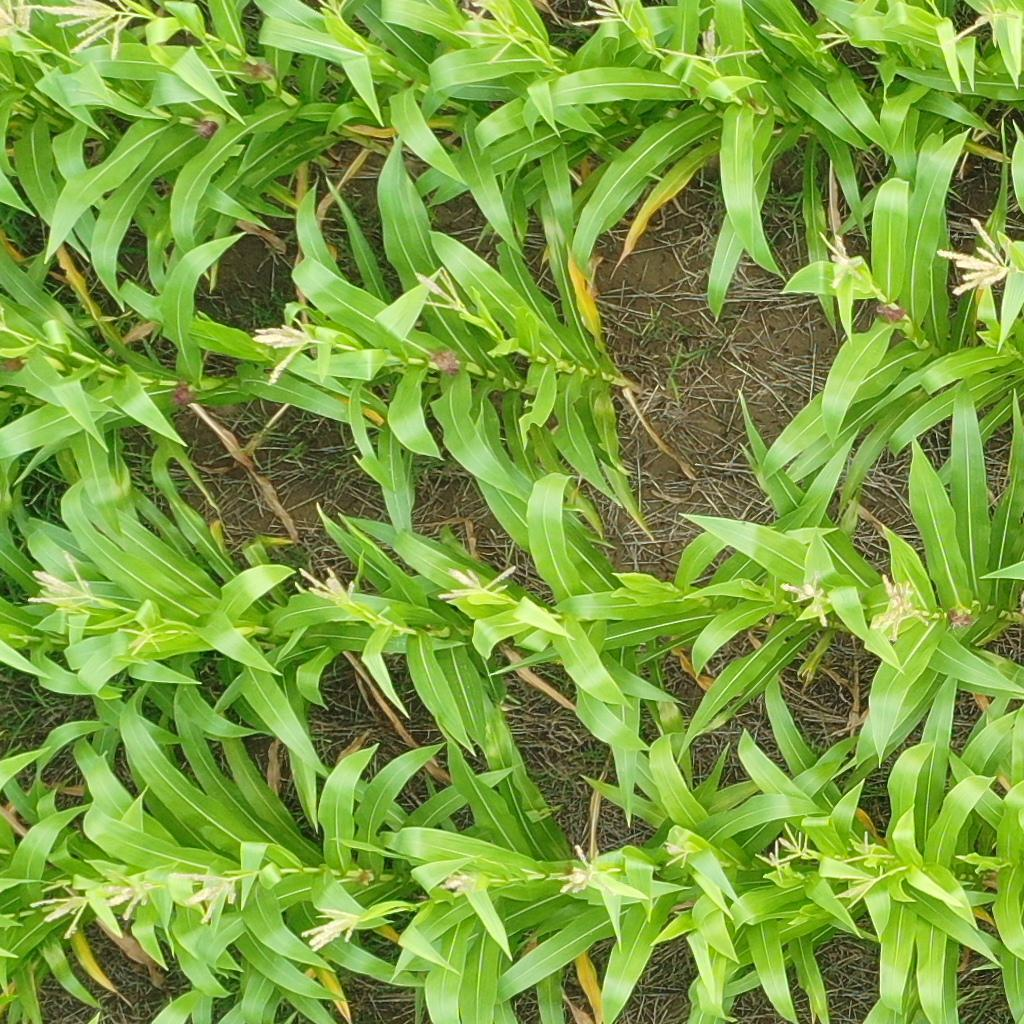Tassel: (936, 216, 1021, 297), (17, 1, 138, 56), (650, 18, 762, 70), (248, 315, 320, 385), (870, 570, 935, 642), (23, 552, 97, 614), (436, 559, 524, 610), (452, 1, 517, 64), (552, 842, 620, 902), (25, 881, 93, 941), (777, 558, 836, 627), (170, 868, 240, 926), (944, 1, 1021, 48), (294, 565, 363, 613), (100, 870, 162, 920), (301, 906, 360, 954), (820, 227, 864, 289), (413, 267, 466, 315), (111, 616, 171, 657), (845, 828, 894, 870), (662, 824, 699, 874), (771, 820, 810, 865), (832, 875, 881, 910), (430, 865, 480, 898), (572, 1, 632, 28), (756, 838, 795, 878), (1, 1, 37, 42), (815, 17, 849, 54), (310, 1, 349, 24), (757, 21, 787, 38)
